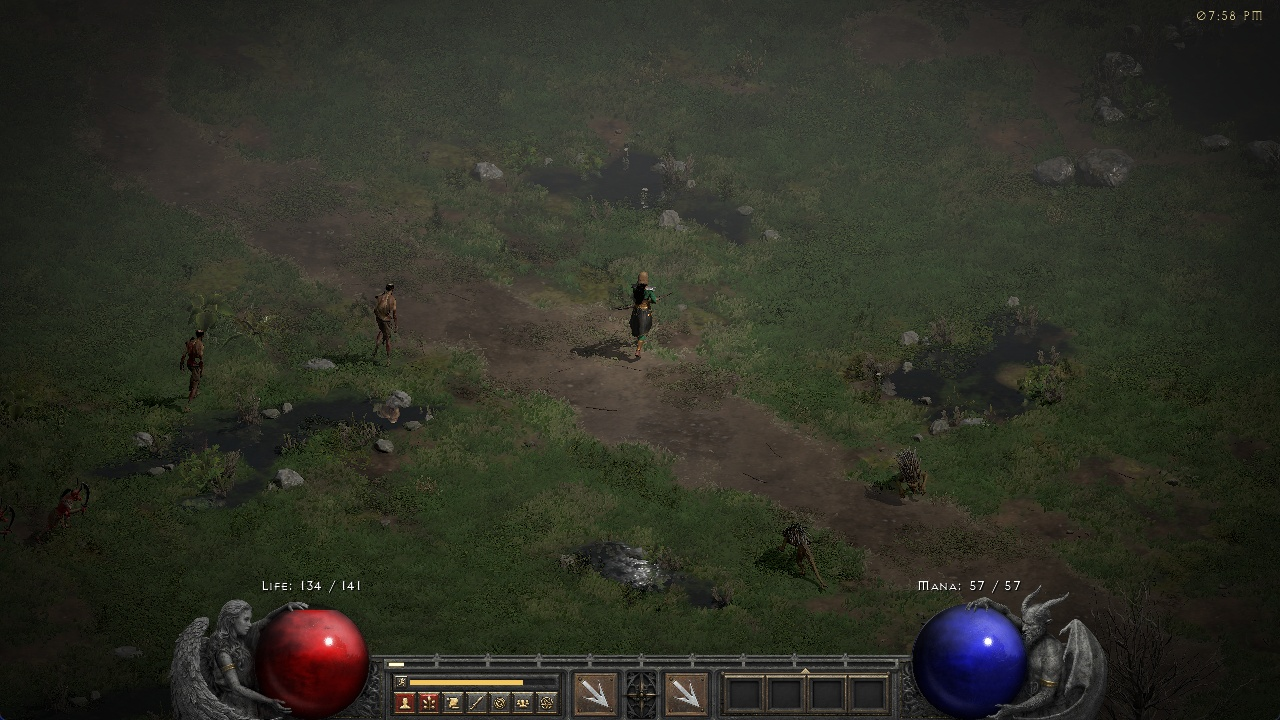fallen: (45, 474, 93, 538)
